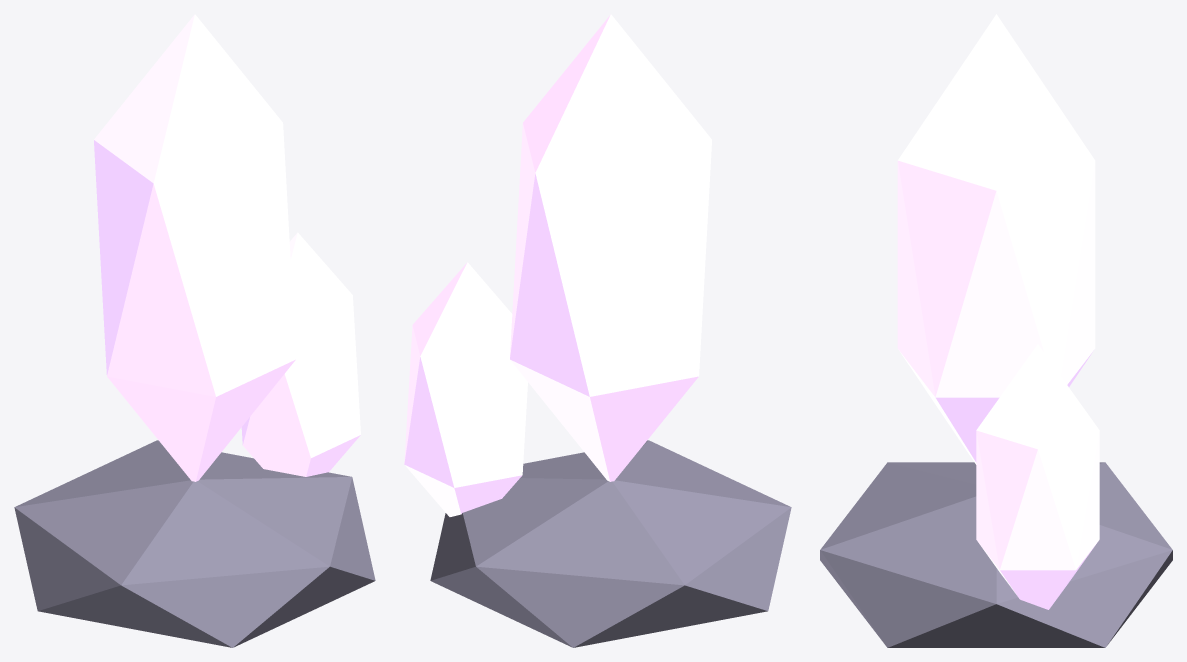
File: memory_stone.glb
3 renders of one model, left to right at view 1: azimuth 30°, elevation 25°; view 2: azimuth 150°, elevation 25°; view 3: azimuth 270°, elevation 25°, orthographic. The views are drawn at different scales.
Visible parts, largest first — view 1: memory_stone; view 2: memory_stone; view 3: memory_stone.
Boxes of the visible parts, x1,y1,x2,y2 form: memory_stone: (14, 14, 375, 647); memory_stone: (404, 14, 791, 647); memory_stone: (820, 14, 1172, 647).
Size of the model in its own units: 0.9537 by 1.61 by 0.8506.
